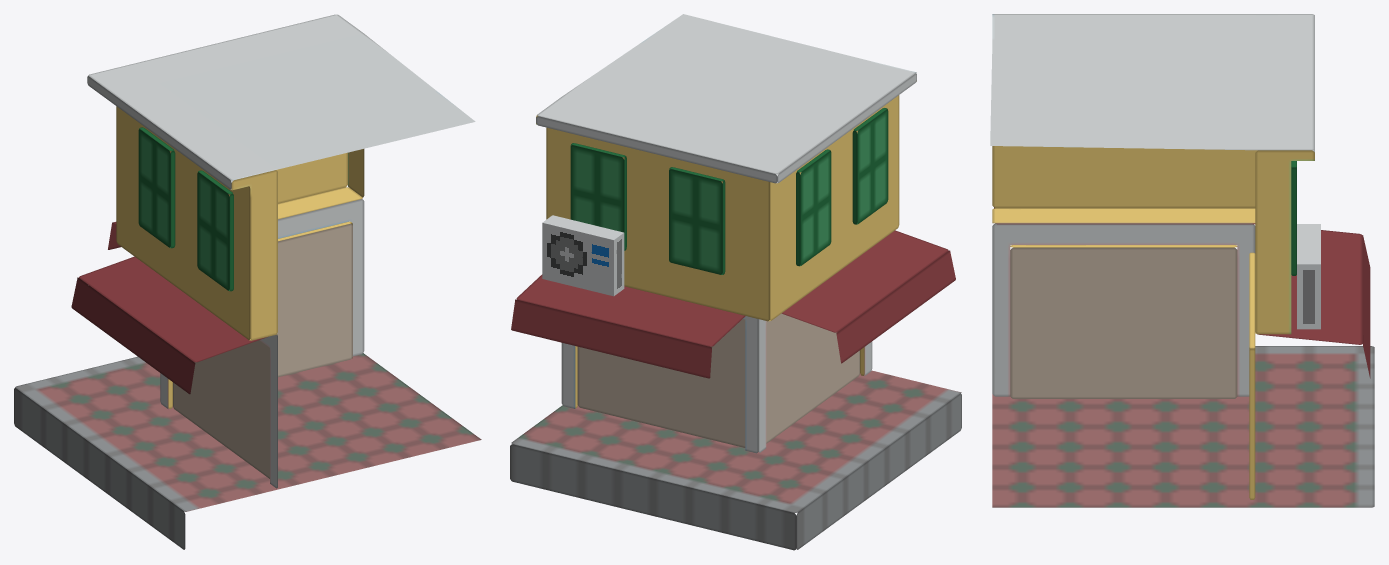
The model's file is CornerHouse 1.fbx.
3 renders of one model, left to right at view 1: azimuth 30°, elevation 25°; view 2: azimuth 150°, elevation 25°; view 3: azimuth 270°, elevation 25°, orthographic. The views are drawn at different scales.
Parts seen in each view (by area): view 1: cuboid, SideRoad, plane_1, cuboid_3, cuboid_4; view 2: cuboid, SideRoad, plane, plane_1, cuboid_2, AC, cuboid_1, cuboid_4, cuboid_3; view 3: cuboid, SideRoad, plane, AC, cuboid_1, plane_1.
Boxes of the visible parts, bbox=[...] form: cuboid: bbox=[87, 14, 475, 488]; SideRoad: bbox=[14, 353, 481, 549]; plane_1: bbox=[71, 256, 268, 394]; cuboid_3: bbox=[138, 127, 175, 248]; cuboid_4: bbox=[197, 170, 233, 291]; cuboid: bbox=[536, 14, 916, 453]; SideRoad: bbox=[510, 370, 961, 550]; plane: bbox=[511, 274, 745, 378]; plane_1: bbox=[782, 230, 955, 363]; cuboid_2: bbox=[669, 167, 725, 274]; AC: bbox=[542, 215, 624, 296]; cuboid_1: bbox=[570, 143, 626, 250]; cuboid_4: bbox=[852, 108, 888, 224]; cuboid_3: bbox=[796, 149, 831, 266]; cuboid: bbox=[990, 14, 1314, 499]; SideRoad: bbox=[992, 346, 1374, 507]; plane: bbox=[1257, 230, 1370, 378]; AC: bbox=[1297, 224, 1320, 329]; cuboid_1: bbox=[1291, 161, 1296, 275]; plane_1: bbox=[994, 207, 1255, 224].
Size of the model in its own units: 201 by 232 by 201.
3 materials, 3 textured.
